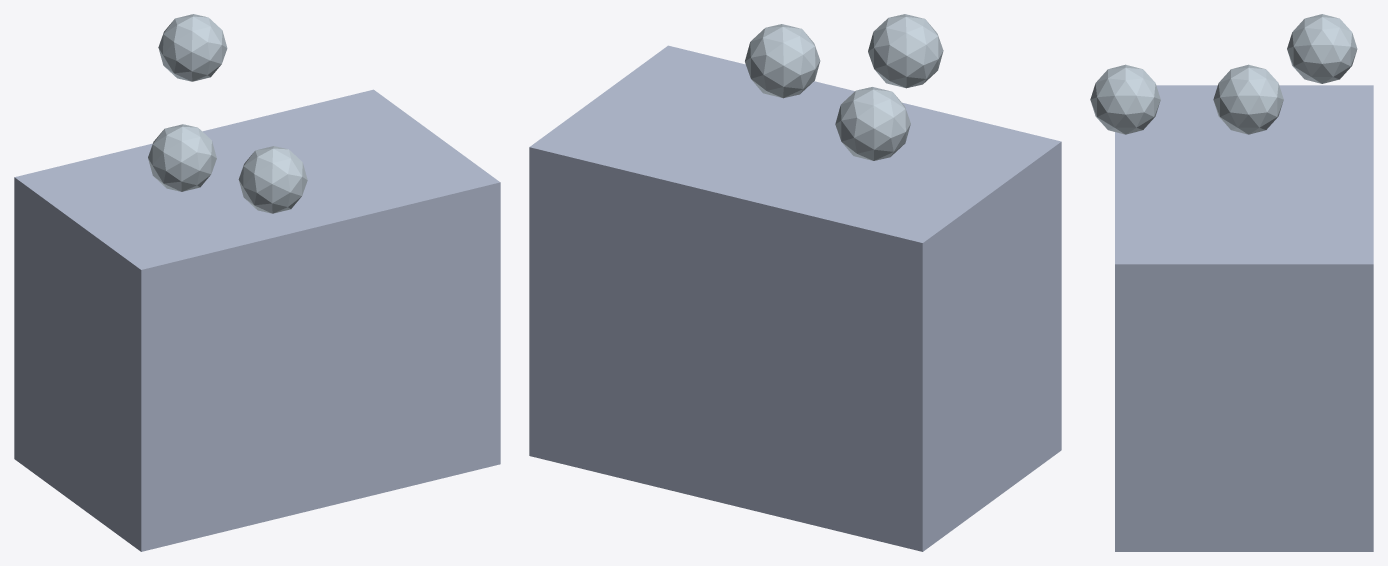
Rendered from dream_wraith.glb.
3 views of the same model, side by side, from view 1: azimuth 30°, elevation 25°; view 2: azimuth 150°, elevation 25°; view 3: azimuth 270°, elevation 25° (orthographic). The views are drawn at different scales.
Parts seen in each view (by area): view 1: geometry_0; view 2: geometry_0; view 3: geometry_0.
Boxes of the visible parts, <box> form: geometry_0: <box>14,14,500,551</box>; geometry_0: <box>529,14,1061,551</box>; geometry_0: <box>1090,14,1373,551</box>.
Bounding box in the file's own units: 0.72 × 0.8114 × 0.482.
